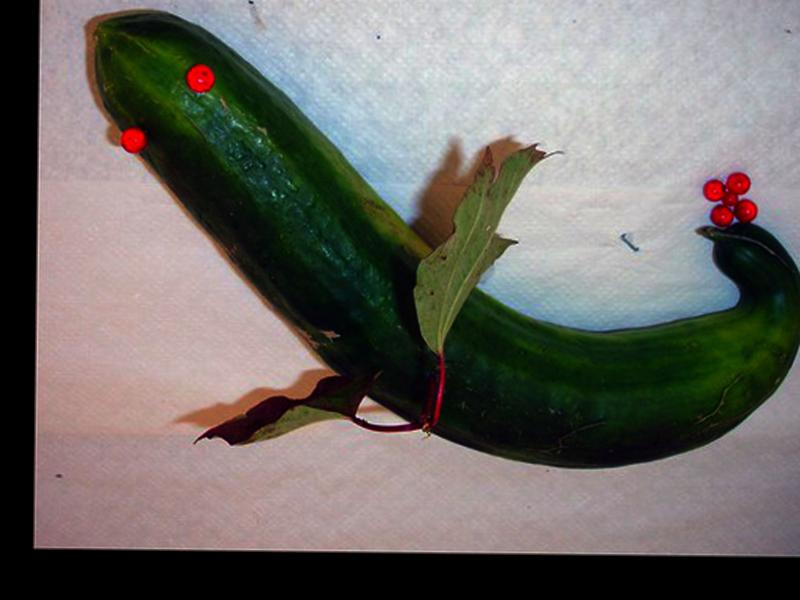Cucumber: (88, 12, 800, 470)
